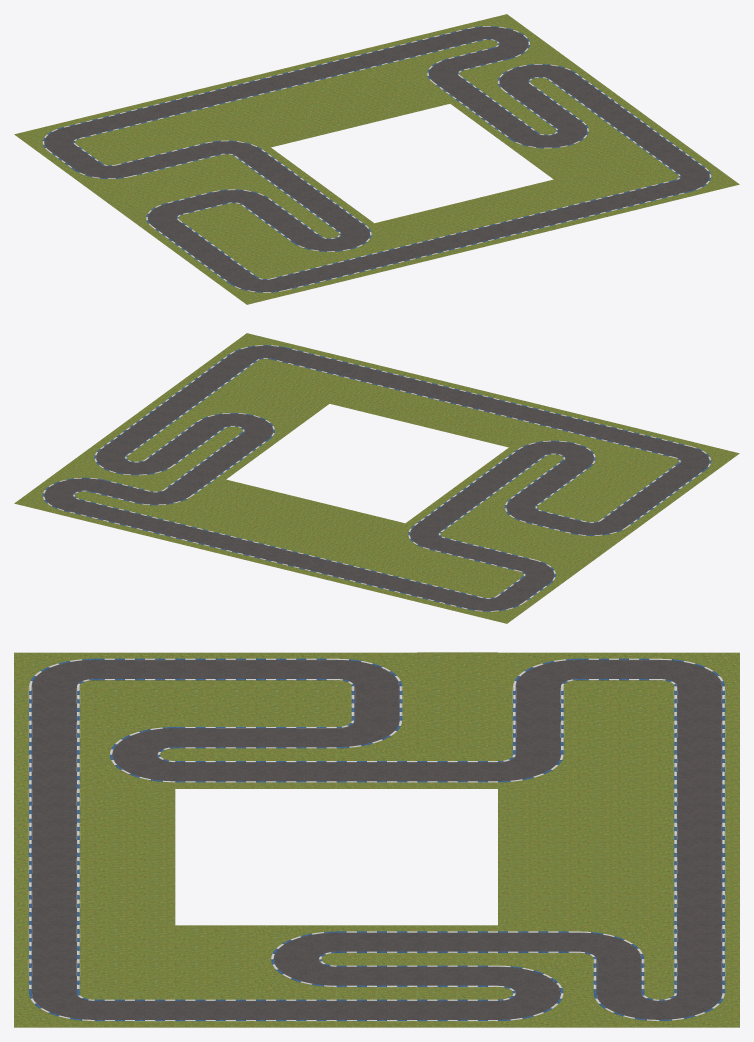
Rendered from Track1.glb.
3 views of the same model, one above another, from view 1: azimuth 30°, elevation 25°; view 2: azimuth 150°, elevation 25°; view 3: azimuth 270°, elevation 25° (orthographic). The views are drawn at different scales.
Visible parts, largest first — view 1: Forest_mod_01_straight.070, Forest_mod_01_straight.077, Forest_mod_01_straight.081, Forest_mod_01_straight.083, Forest_mod_01_straight.068, Desert_mod_03_flat.014, Desert_mod_03_flat.017, Desert_mod_03_flat.025, Desert_mod_03_flat.009, Forest_mod_01_straight.053, Forest_mod_01_straight.063, Forest_mod_01_straight.072 (+87 smaller); view 2: Forest_mod_01_straight.048, Forest_mod_01_straight.052, Forest_mod_01_straight.069, Forest_mod_01_straight.056, Forest_mod_01_straight.057, Forest_mod_01_straight.063, Forest_mod_01_straight.064, Forest_mod_01_straight.083, Forest_mod_01_straight.054, Forest_mod_01_straight.086, Desert_mod_03_flat.013, Desert_mod_03_flat.015 (+87 smaller); view 3: Forest_mod_01_straight.056, Forest_mod_01_straight.059, Desert_mod_03_flat.009, Forest_mod_01_straight.053, Forest_mod_01_straight.065, Forest_mod_01_straight.070, Forest_mod_01_straight.071, Forest_mod_01_straight.082, Forest_mod_01_straight.054, Forest_mod_01_straight.085, Desert_mod_03_flat.015, Desert_mod_03_flat.016 (+87 smaller).
Boxes of the visible parts, x1=… form: Forest_mod_01_straight.070: x1=444, y1=44, x2=513, y2=73; Forest_mod_01_straight.077: x1=238, y1=69, x2=308, y2=98; Forest_mod_01_straight.081: x1=418, y1=25, x2=487, y2=54; Forest_mod_01_straight.083: x1=450, y1=93, x2=520, y2=122; Forest_mod_01_straight.068: x1=259, y1=215, x2=329, y2=244; Desert_mod_03_flat.014: x1=181, y1=158, x2=251, y2=188; Desert_mod_03_flat.017: x1=174, y1=109, x2=244, y2=139; Desert_mod_03_flat.025: x1=509, y1=179, x2=579, y2=209; Desert_mod_03_flat.009: x1=240, y1=245, x2=309, y2=274; Forest_mod_01_straight.053: x1=195, y1=256, x2=265, y2=285; Forest_mod_01_straight.063: x1=304, y1=204, x2=373, y2=233; Forest_mod_01_straight.072: x1=495, y1=82, x2=565, y2=111; Forest_mod_01_straight.048: x1=445, y1=388, x2=515, y2=417; Forest_mod_01_straight.052: x1=266, y1=344, x2=335, y2=373; Forest_mod_01_straight.069: x1=502, y1=477, x2=572, y2=507; Forest_mod_01_straight.056: x1=195, y1=352, x2=265, y2=381; Forest_mod_01_straight.057: x1=169, y1=371, x2=239, y2=400; Forest_mod_01_straight.063: x1=483, y1=447, x2=553, y2=477; Forest_mod_01_straight.064: x1=457, y1=466, x2=527, y2=496; Forest_mod_01_straight.083: x1=181, y1=449, x2=251, y2=479; Forest_mod_01_straight.054: x1=488, y1=575, x2=558, y2=604; Forest_mod_01_straight.086: x1=469, y1=545, x2=539, y2=574; Desert_mod_03_flat.013: x1=495, y1=526, x2=565, y2=555; Desert_mod_03_flat.015: x1=444, y1=564, x2=513, y2=593; Forest_mod_01_straight.056: x1=94, y1=993, x2=175, y2=1027; Forest_mod_01_straight.059: x1=336, y1=993, x2=417, y2=1027; Desert_mod_03_flat.009: x1=94, y1=686, x2=175, y2=720; Forest_mod_01_straight.053: x1=94, y1=652, x2=175, y2=686; Forest_mod_01_straight.065: x1=336, y1=754, x2=417, y2=788; Forest_mod_01_straight.070: x1=578, y1=959, x2=659, y2=993; Forest_mod_01_straight.071: x1=336, y1=959, x2=417, y2=993; Forest_mod_01_straight.082: x1=336, y1=925, x2=417, y2=959; Forest_mod_01_straight.054: x1=578, y1=652, x2=659, y2=686; Forest_mod_01_straight.085: x1=336, y1=686, x2=417, y2=720; Desert_mod_03_flat.015: x1=578, y1=686, x2=659, y2=720; Desert_mod_03_flat.016: x1=578, y1=720, x2=659, y2=754.
Size of the model in its own units: 176 by 0.03 by 144.
Materials: 4 (4 with a texture image).
